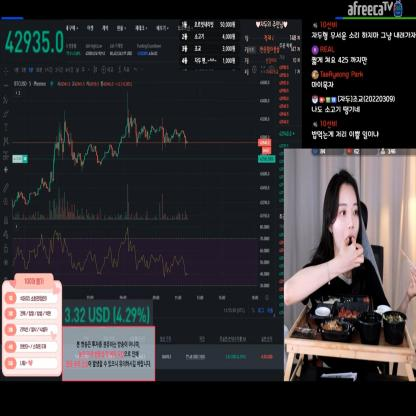streamer: (285, 171, 416, 324)
